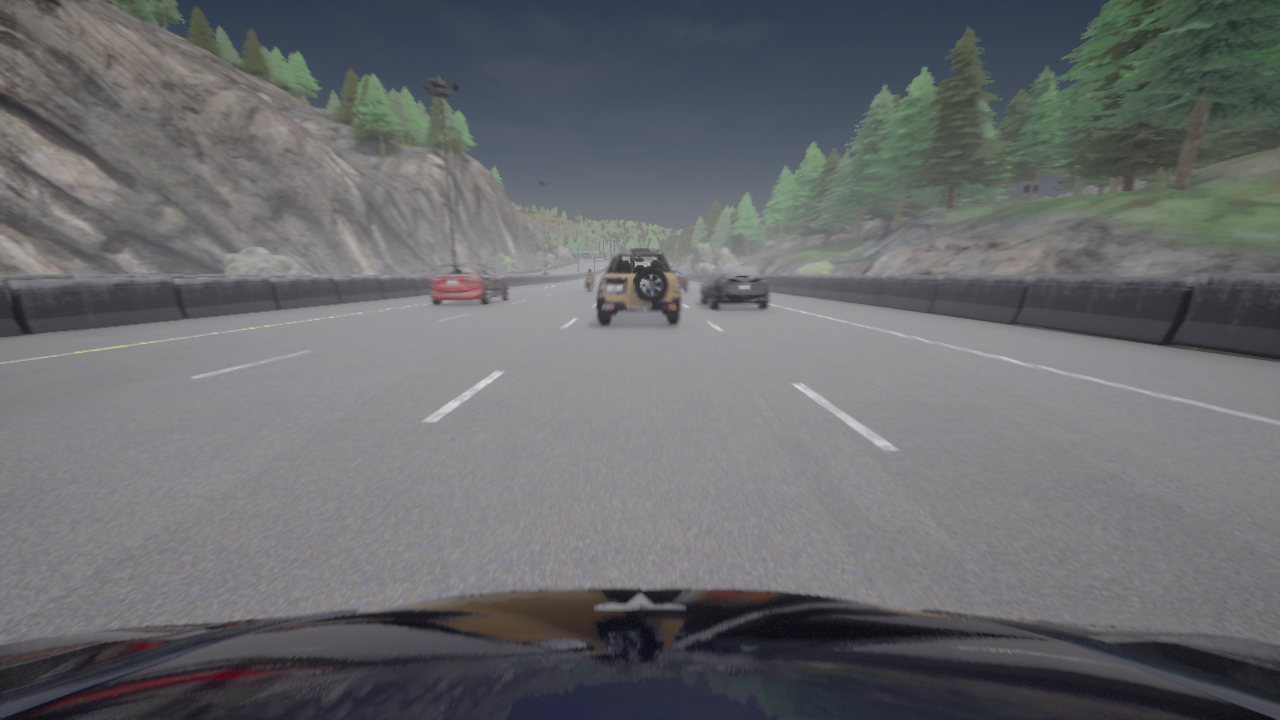cyclist: (0, 588, 1279, 719), (597, 248, 680, 324), (430, 262, 509, 304), (700, 266, 768, 308), (673, 270, 689, 292), (586, 276, 592, 291)
